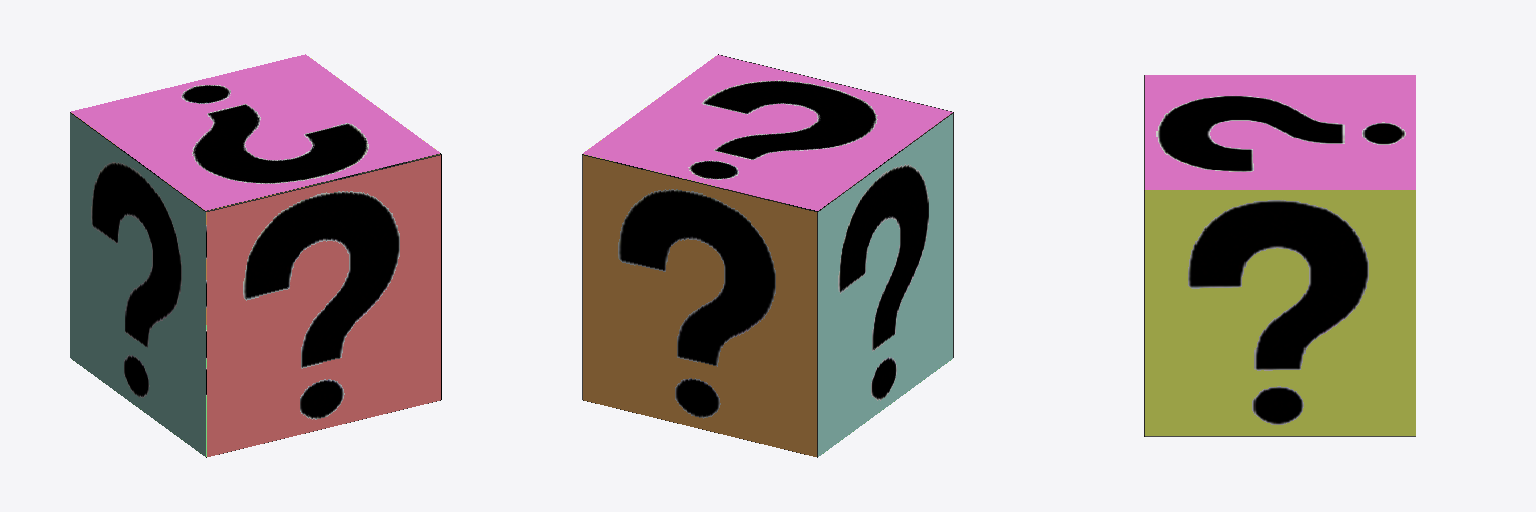
The picture shows the model from 3 angles: view 1: azimuth 30°, elevation 25°; view 2: azimuth 150°, elevation 25°; view 3: azimuth 270°, elevation 25°; orthographic projection.
Visible parts, largest first — view 1: Cube; view 2: Cube; view 3: Cube.
Part boxes in pixels (x1,y1,x2,y2): Cube: (70,54,441,457); Cube: (582,54,953,457); Cube: (1144,75,1415,436).
Bounding box in the file's own units: 2 × 2 × 2.
Materials: 1 (1 with a texture image).